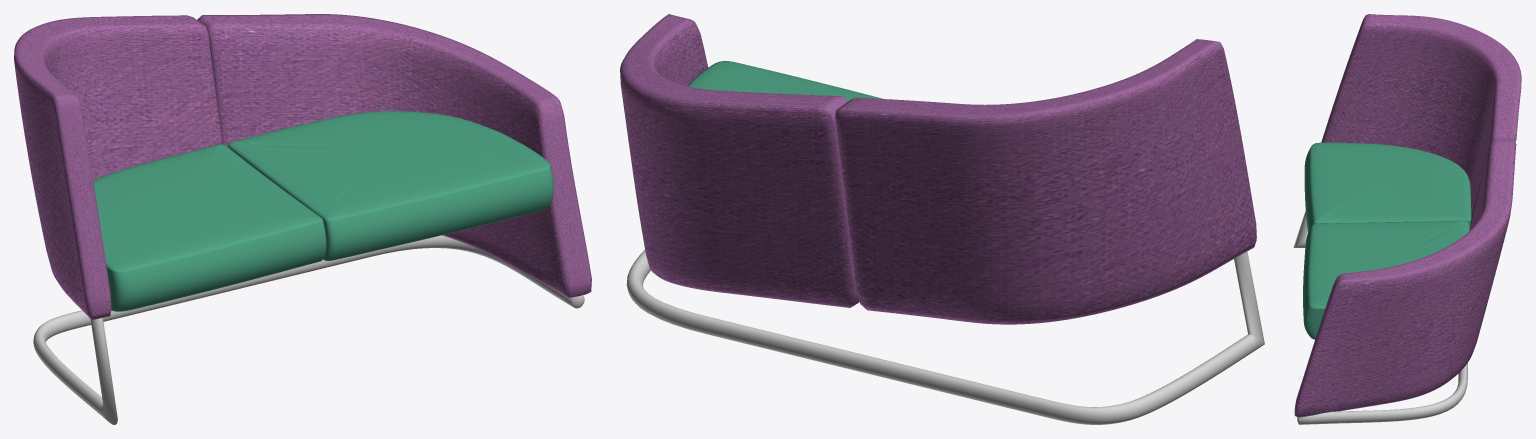
The model's file is sofa.glb.
3 views of the same model, side by side, from view 1: azimuth 30°, elevation 25°; view 2: azimuth 150°, elevation 25°; view 3: azimuth 270°, elevation 25° (orthographic). The views are drawn at different scales.
Parts seen in each view (by area): view 1: sofa_back_right, sofa_back_left, sofa_pillow_right, sofa_pillow_left, sofa_metal_pipe_01; view 2: sofa_back_left, sofa_back_right, sofa_metal_pipe_01, sofa_pillow_right; view 3: sofa_back_right, sofa_back_left, sofa_pillow_left, sofa_pillow_right, sofa_metal_pipe_01.
Part boxes in pixels (x1,y1,x2,y2): sofa_back_right: (197, 14, 591, 297); sofa_back_left: (14, 15, 222, 320); sofa_pillow_right: (228, 111, 553, 260); sofa_pillow_left: (93, 144, 326, 311); sofa_metal_pipe_01: (33, 235, 584, 424); sofa_back_left: (835, 39, 1256, 324); sofa_back_right: (620, 14, 859, 307); sofa_metal_pipe_01: (626, 250, 1264, 424); sofa_pillow_right: (687, 61, 882, 100); sofa_back_right: (1294, 140, 1516, 417); sofa_back_left: (1321, 14, 1521, 230); sofa_pillow_left: (1304, 142, 1471, 232); sofa_pillow_right: (1303, 220, 1469, 339); sofa_metal_pipe_01: (1293, 211, 1467, 424).
Size of the model in its own units: 43.96 by 25.22 by 22.7.
Materials: 3 (2 with a texture image).
